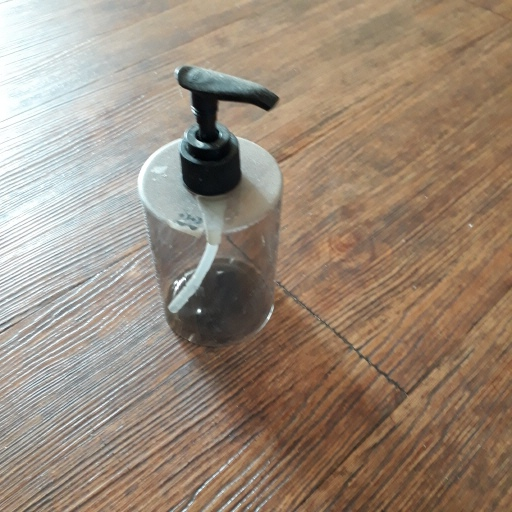Plastic_3: (140, 64, 283, 347)
